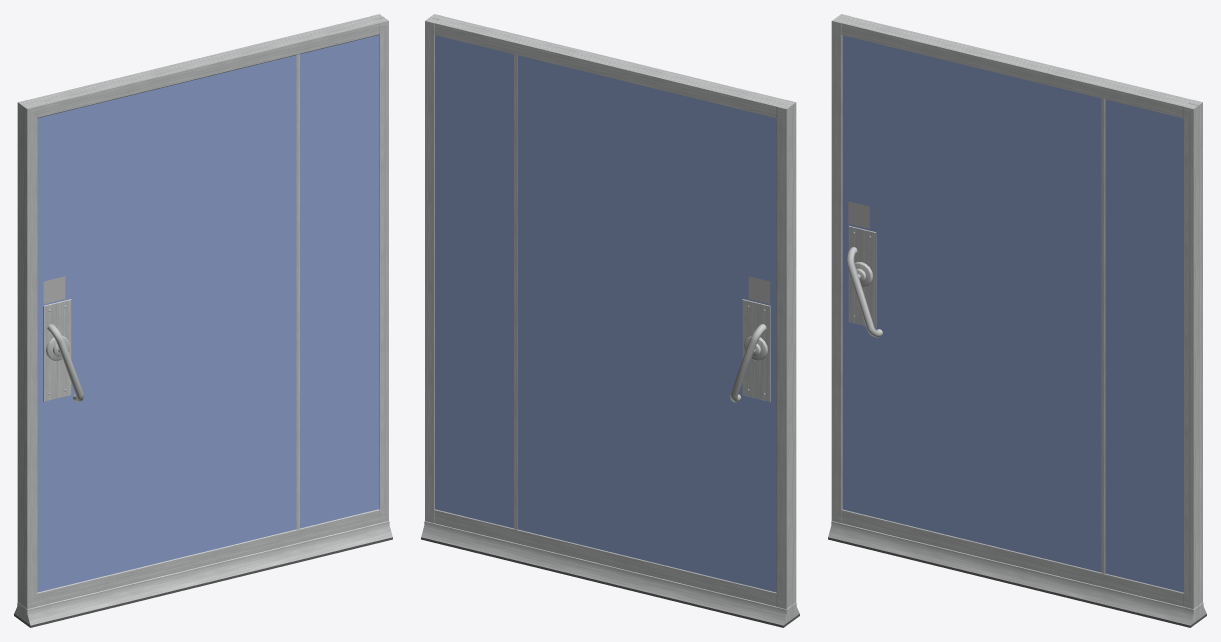
Rendered from OR_Door_Main.fbx.
3 renders of one model, left to right at view 1: azimuth 30°, elevation 25°; view 2: azimuth 150°, elevation 25°; view 3: azimuth 330°, elevation 25°, orthographic.
Parts seen in each view (by area): view 1: OR_Door_Main; view 2: OR_Door_Main; view 3: OR_Door_Main.
Boxes of the visible parts, left/top/right/bottom form: OR_Door_Main: left=14, top=14, right=392, bottom=627; OR_Door_Main: left=421, top=14, right=799, bottom=627; OR_Door_Main: left=828, top=14, right=1206, bottom=627.
Bounding box in the file's own units: 160 × 217 × 20.73.
